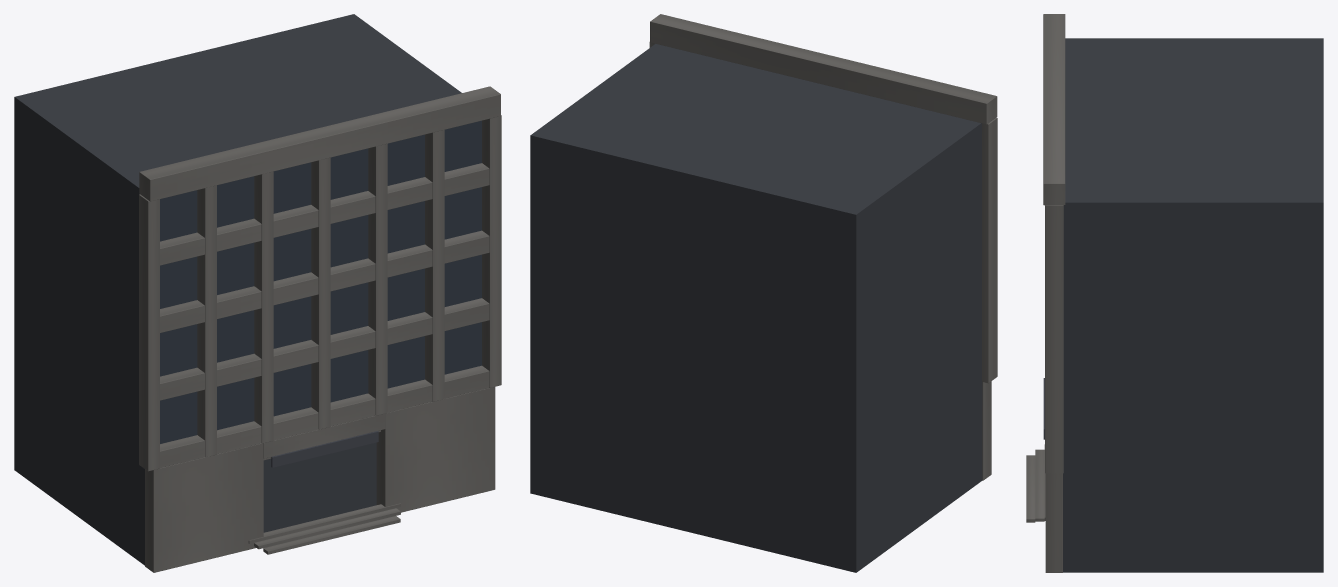
The model's file is entrance.glb.
3 views of the same model, side by side, from view 1: azimuth 30°, elevation 25°; view 2: azimuth 150°, elevation 25°; view 3: azimuth 270°, elevation 25° (orthographic). The views are drawn at different scales.
Parts seen in each view (by area): view 1: shell_core, ground_pier_l, ground_pier_r, parapet, spandrel_0, spandrel_1, spandrel_2, spandrel_3, pier_0, pier_6, pier_5, pier_3 (+32 smaller); view 2: shell_core, parapet, pier_0, ground_pier_l; view 3: shell_core, pier_6, parapet, ground_pier_r, step_1, step_2.
Part boxes in pixels (x1,y1,x2,y2): shell_core: [14, 14, 461, 565]; ground_pier_l: [145, 443, 263, 572]; ground_pier_r: [376, 387, 495, 512]; parapet: [139, 86, 500, 201]; spandrel_0: [160, 163, 489, 265]; spandrel_1: [160, 230, 489, 332]; spandrel_2: [160, 298, 489, 400]; spandrel_3: [160, 365, 489, 467]; pier_0: [139, 194, 159, 471]; pier_6: [482, 115, 501, 387]; pier_5: [425, 130, 444, 401]; pier_3: [311, 157, 330, 429]; shell_core: [530, 44, 982, 572]; parapet: [650, 14, 997, 124]; pier_0: [982, 117, 997, 383]; ground_pier_l: [982, 381, 991, 480]; shell_core: [1063, 38, 1323, 572]; pier_6: [1045, 205, 1063, 473]; parapet: [1043, 14, 1065, 205]; ground_pier_r: [1045, 473, 1062, 572]; step_1: [1035, 449, 1044, 521]; step_2: [1026, 455, 1035, 522].
Size of what is drawn, in the model's own units: 18.62 by 19.9 by 13.69.
Materials: 6 (1 with a texture image).
